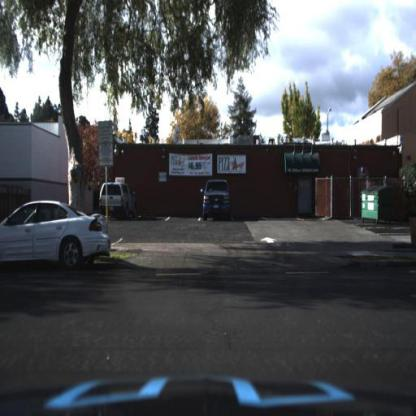car: (1, 198, 113, 276), (94, 183, 138, 223), (199, 178, 237, 222)
